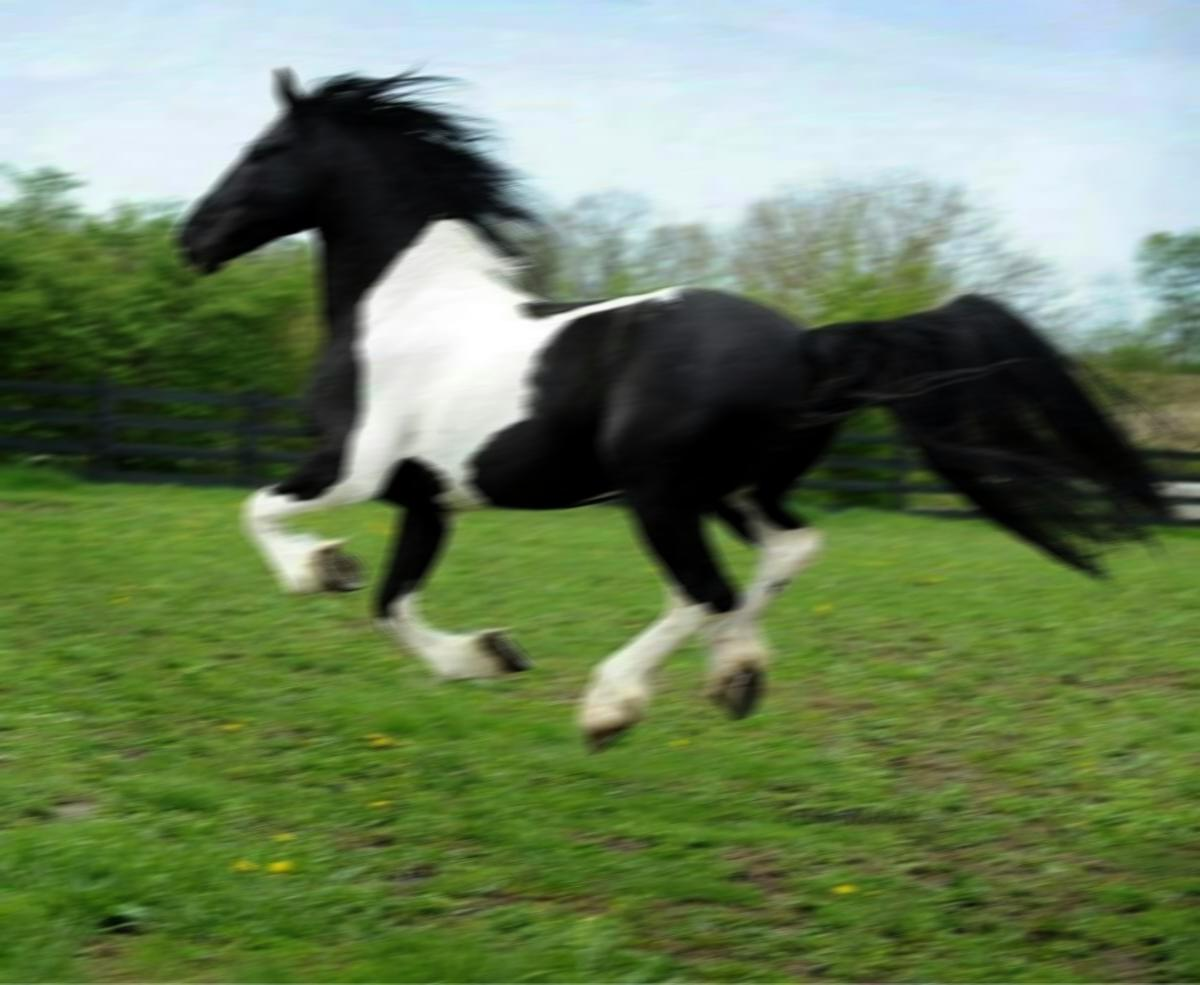horse: (163, 48, 1200, 767)
